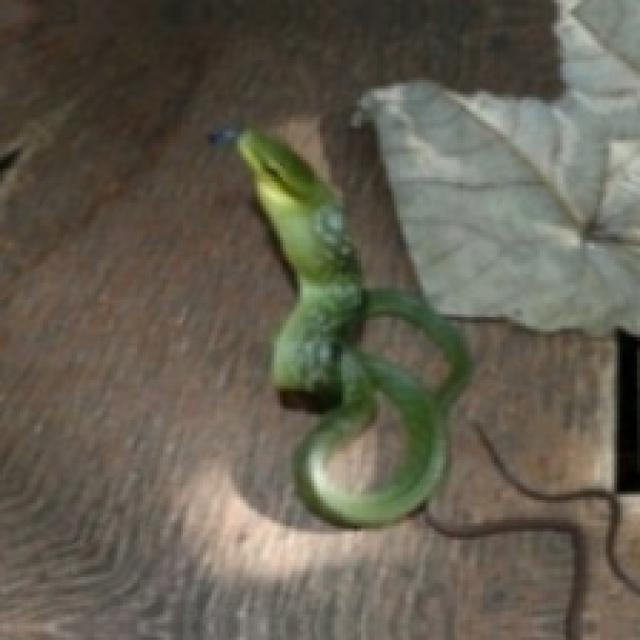red-tailed green ratsnake: (237, 126, 469, 526), (237, 129, 469, 526)
